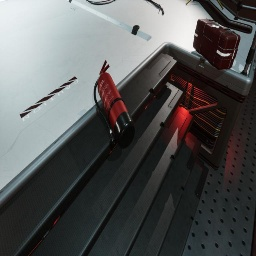FireExtinguisher ]: (94, 60, 136, 149)
FirstAidBox ,: (193, 19, 240, 70)
